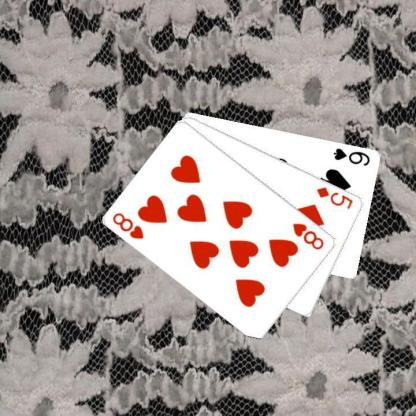5D: (314, 184, 355, 210)
6S: (330, 145, 372, 167)
8H: (290, 220, 326, 251), (110, 210, 146, 240)
